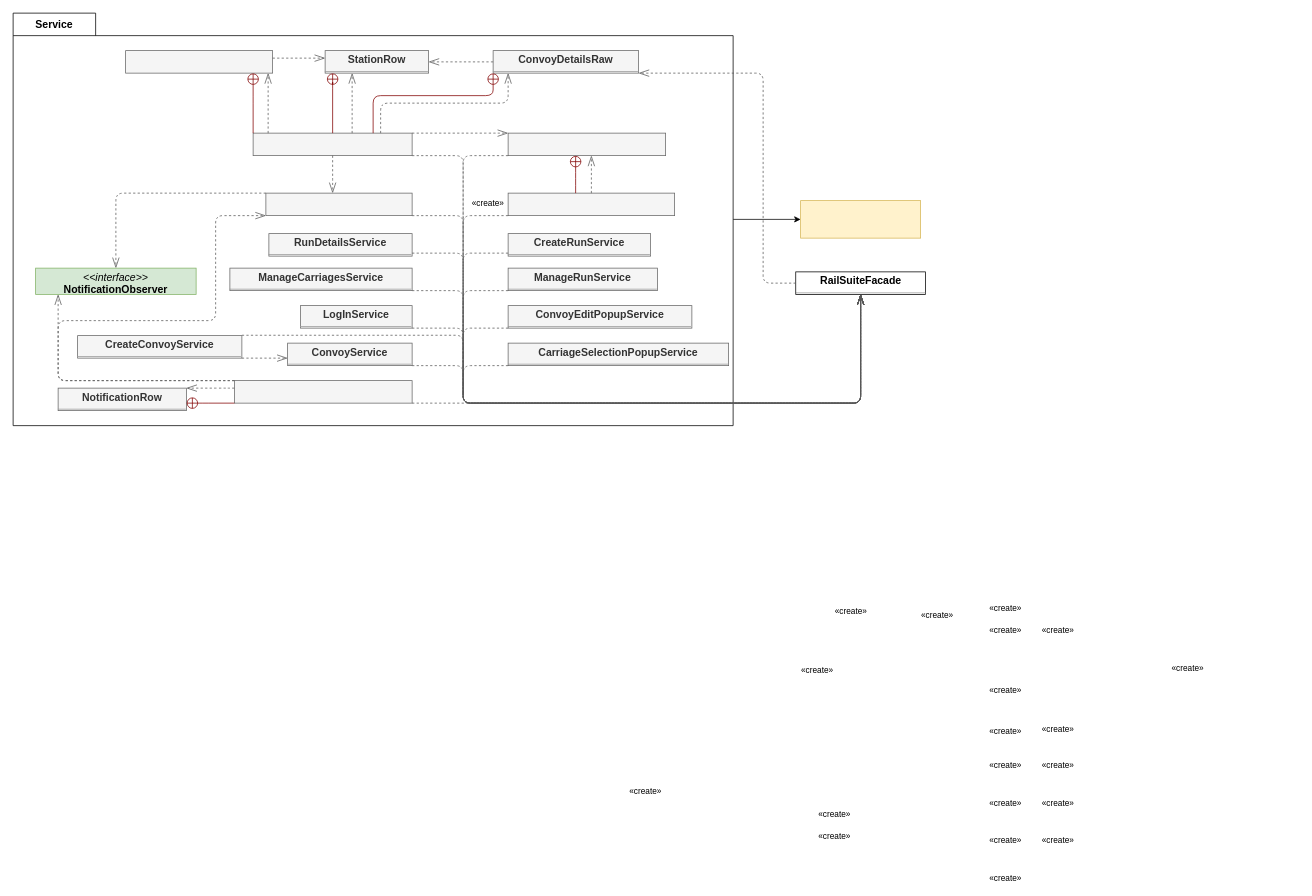
The diagram is 1312 pixels wide and 896 high, and some of its shapes have lost their labels. The shapes that lost their labels are listed below. From the top down, each one's centre as x and y in pixels, then its label:
(199,61): ConvoyDetailsDTO
(332,144): ConvoyDetailsService
(586,144): AssignedConvoyInfo
(338,204): NotificationService
(591,204): OperatorHomeService
(860,219): <<package>> Controller
(323,391): SupervisorHomeService
